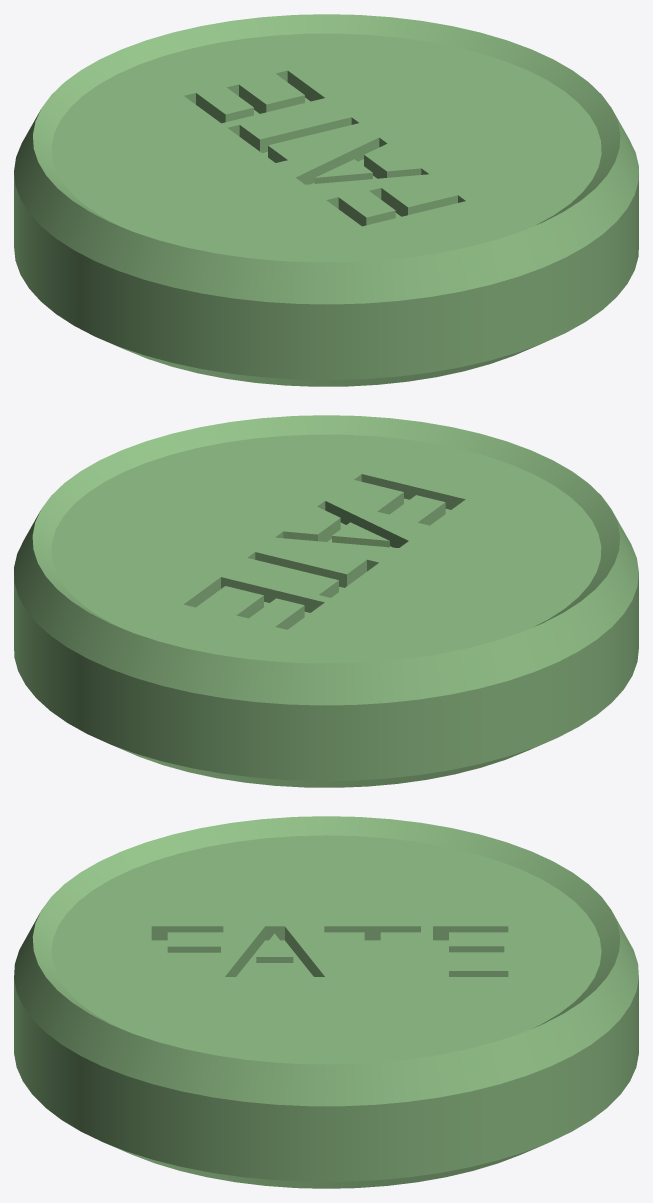
The model's file is Piece V1 Olivine.glb.
3 renders of one model, top to bottom at view 1: azimuth 30°, elevation 25°; view 2: azimuth 150°, elevation 25°; view 3: azimuth 270°, elevation 25°, orthographic.
Visible parts, largest first — view 1: Solid1; view 2: Solid1; view 3: Solid1.
Part boxes in pixels (x1,y1,x2,y2): Solid1: (14, 14, 638, 386); Solid1: (14, 415, 638, 787); Solid1: (14, 816, 638, 1188).
Bounding box in the file's own units: 0.0317 × 0.00741 × 0.0317.
